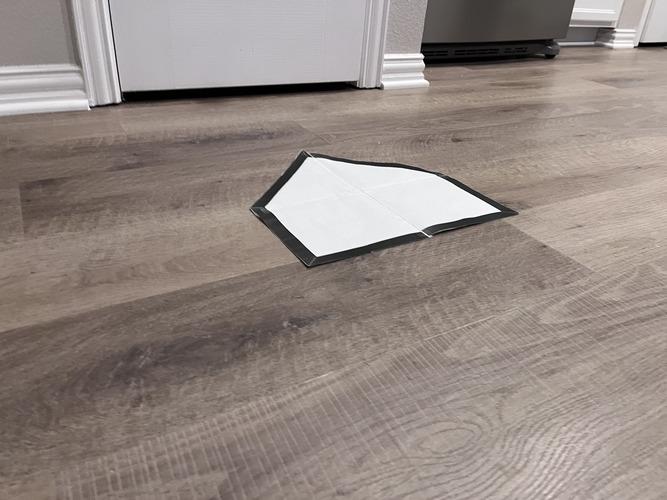homeplate: (247, 150, 522, 270)
